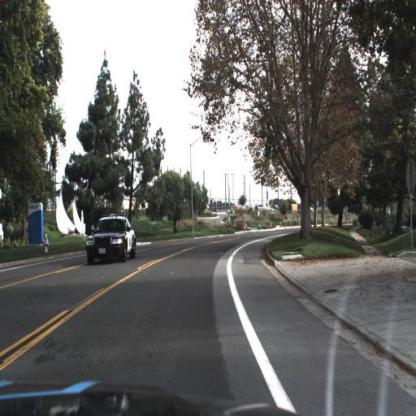car: (83, 212, 138, 265)
